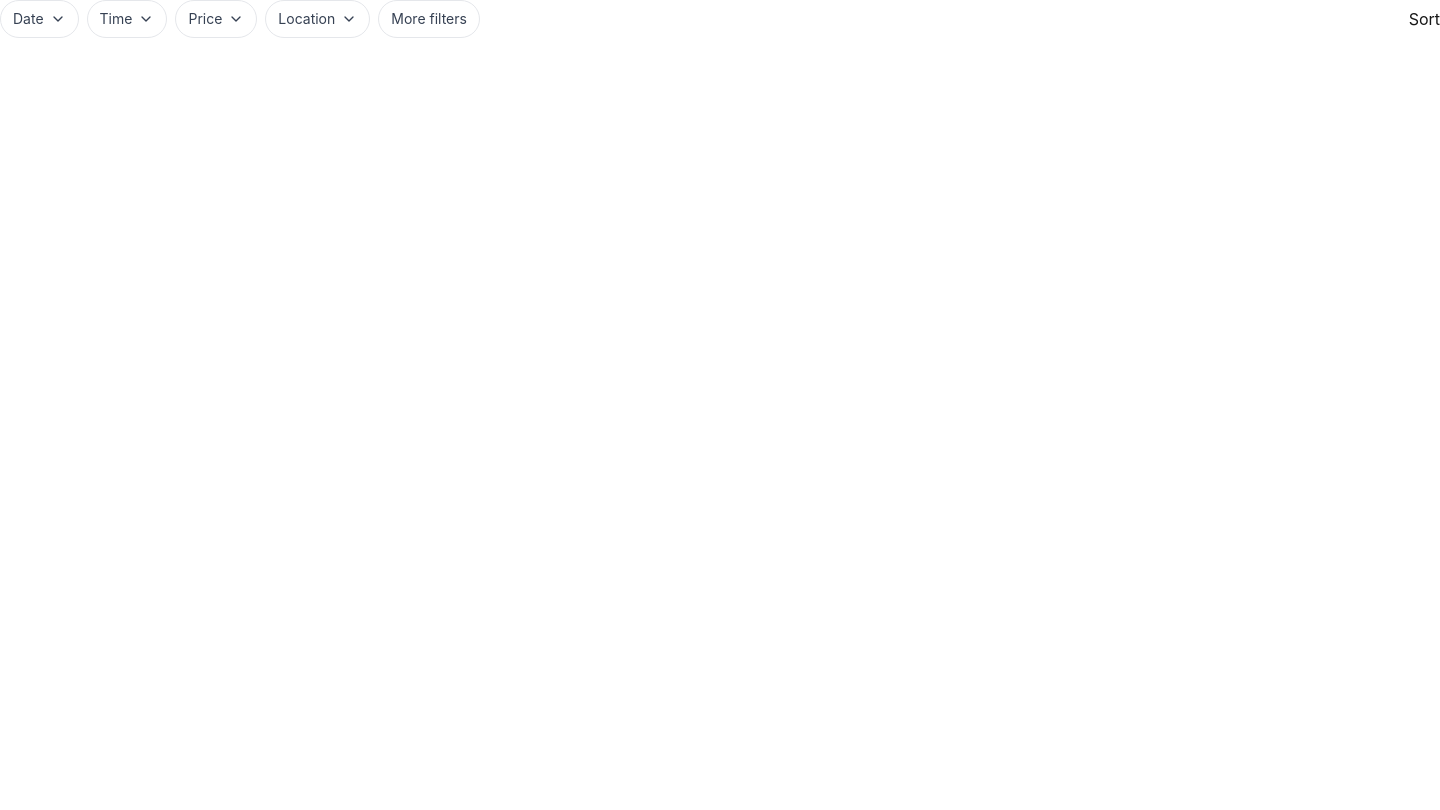
FilterBar › keeps inferred suggestions soft until user applies
expect the text "1" is not shown: met
Click the button "More filters": click(429, 19) [378,0,480,38]
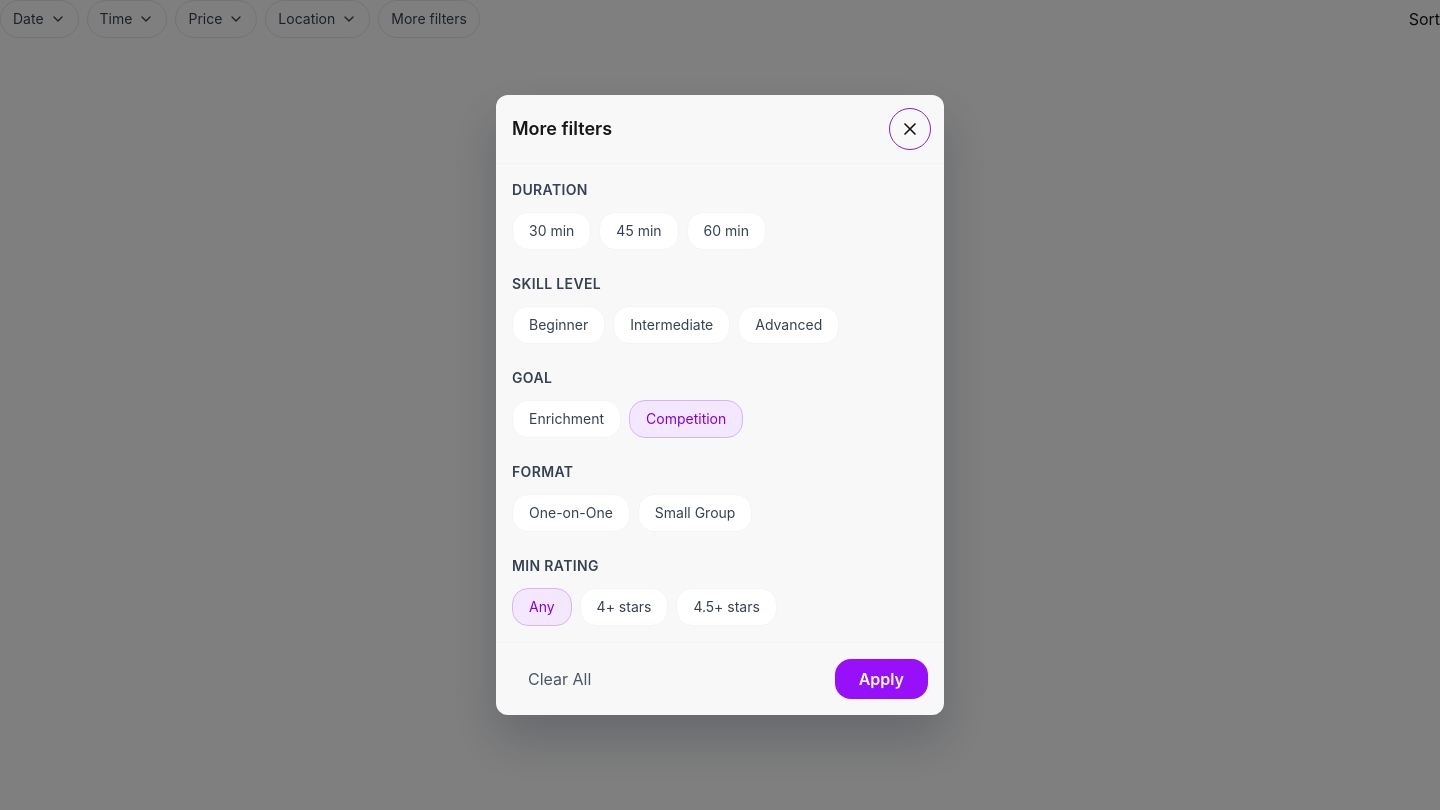
expect the checkbox labelled "Competition" is checked: met, box [629,400,743,438]
Click the button "Apply": click(881, 679) [835,659,928,699]
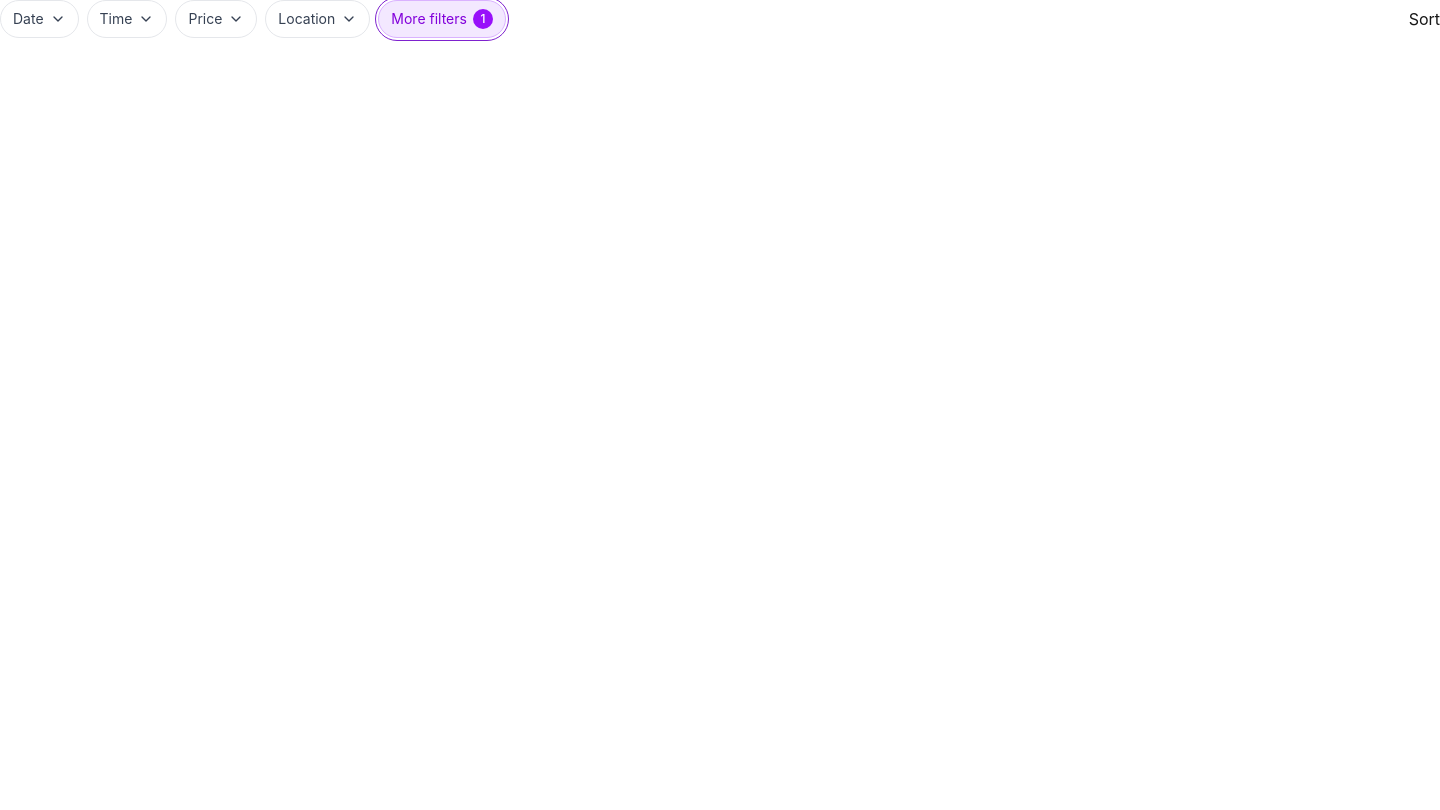
expect the text "1" is shown: met, box [473,9,493,29]
